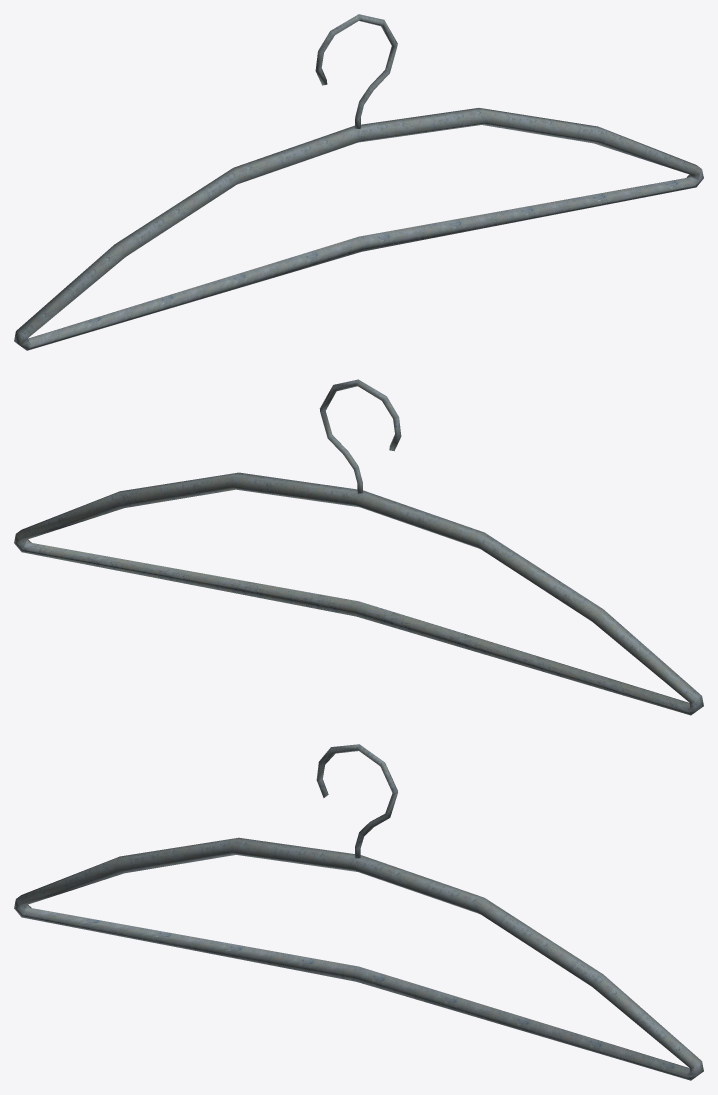
The model's file is M_Home_Garden_Cloth_Hanger03.fbx.
3 views of the same model, one above another, from view 1: azimuth 30°, elevation 25°; view 2: azimuth 150°, elevation 25°; view 3: azimuth 330°, elevation 25° (orthographic).
Parts seen in each view (by area): view 1: M_Home_Garden_Cloth_Hanger03; view 2: M_Home_Garden_Cloth_Hanger03; view 3: M_Home_Garden_Cloth_Hanger03.
Boxes of the visible parts, x1,y1,x2,y2 form: M_Home_Garden_Cloth_Hanger03: (14,14,703,350); M_Home_Garden_Cloth_Hanger03: (14,379,703,715); M_Home_Garden_Cloth_Hanger03: (14,744,703,1080).
Size of the model in its own units: 58.74 by 20.72 by 1.31.
